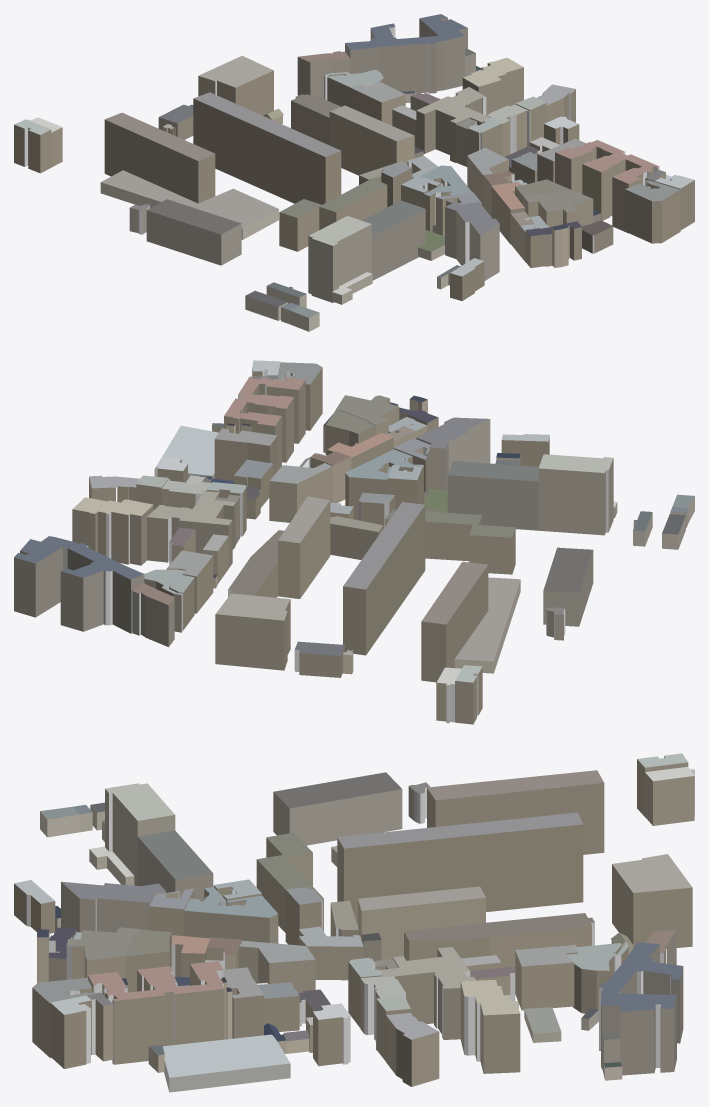
3 views of the same model, one above another, from view 1: azimuth 30°, elevation 25°; view 2: azimuth 150°, elevation 25°; view 3: azimuth 270°, elevation 25° (orthographic). The views are drawn at different scales.
Parts seen in each view (by area): view 1: tuile; view 2: tuile; view 3: tuile.
Boxes of the visible parts, x1=… form: tuile: x1=14, y1=14, x2=694, y2=331; tuile: x1=14, y1=360, x2=694, y2=724; tuile: x1=14, y1=753, x2=694, y2=1092.
Bounding box in the file's own units: 271 × 34.43 × 266.
